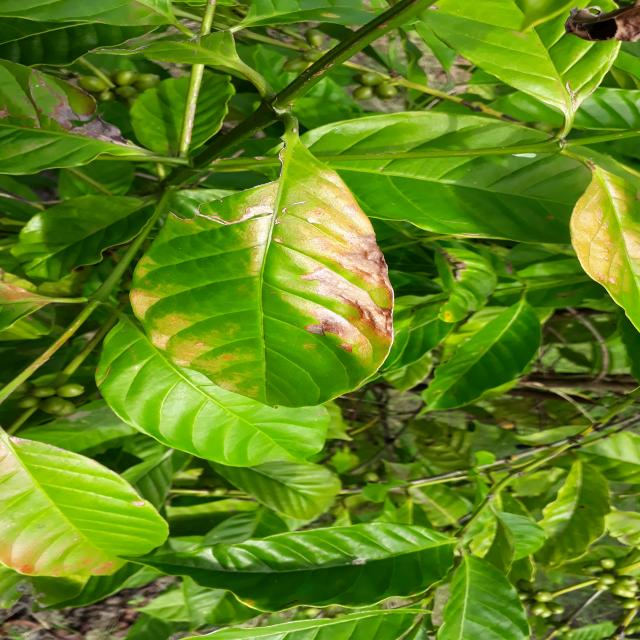Plaga-AranaRoja: (129, 130, 394, 409)
